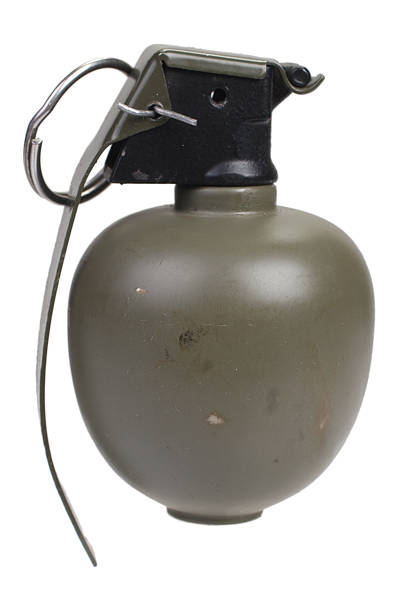e1: (19, 41, 374, 568)
